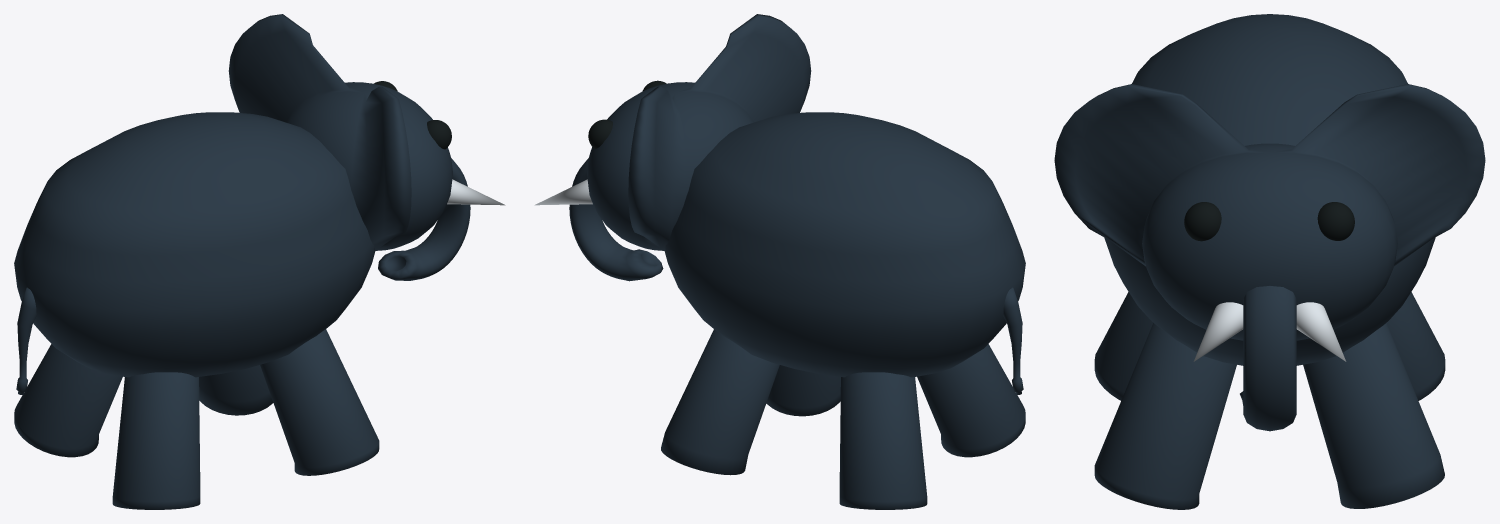
Rendered from toyelephantfinal.fbx.
3 renders of one model, left to right at view 1: azimuth 30°, elevation 25°; view 2: azimuth 150°, elevation 25°; view 3: azimuth 270°, elevation 25°, orthographic. The views are drawn at different scales.
Parts seen in each view (by area): view 1: Sphere, Sphere.001, Cylinder.001, Cylinder.002, Cylinder, Torus, Cylinder.003, Cone; view 2: Sphere, Sphere.001, Cylinder, Cylinder.003, Cylinder.001, Torus, Cylinder.002, Cone.001; view 3: Sphere.001, Sphere, Cylinder.002, Cylinder.003, Torus, Cylinder, Cylinder.001, Cone, Cone.001, Sphere.002, Sphere.003.
Part boxes in pixels (x1,y1,x2,y2): Sphere: (14,112,375,394); Sphere.001: (228,14,452,250); Cylinder.001: (112,372,200,509); Cylinder.002: (260,329,379,475); Cylinder: (14,344,122,457); Torus: (378,158,470,280); Cylinder.003: (199,365,273,415); Cone: (447,179,505,205); Sphere: (664,112,1025,394); Sphere.001: (587,14,811,250); Cylinder: (839,372,927,509); Cylinder.003: (661,329,779,475); Cylinder.001: (917,344,1025,457); Torus: (569,158,663,281); Cylinder.002: (766,365,840,416); Cone.001: (534,179,592,205); Sphere.001: (1054,84,1485,340); Sphere: (1104,14,1435,365); Cylinder.002: (1094,323,1236,509); Cylinder.003: (1303,323,1444,508); Torus: (1240,286,1296,431); Cylinder: (1386,292,1445,400); Cylinder.001: (1094,292,1153,400); Cone: (1193,302,1243,361); Cone.001: (1296,302,1346,361); Sphere.002: (1184,202,1221,241); Sphere.003: (1317,202,1354,240).
Bounding box in the file's own units: 1041 × 794 × 690.
